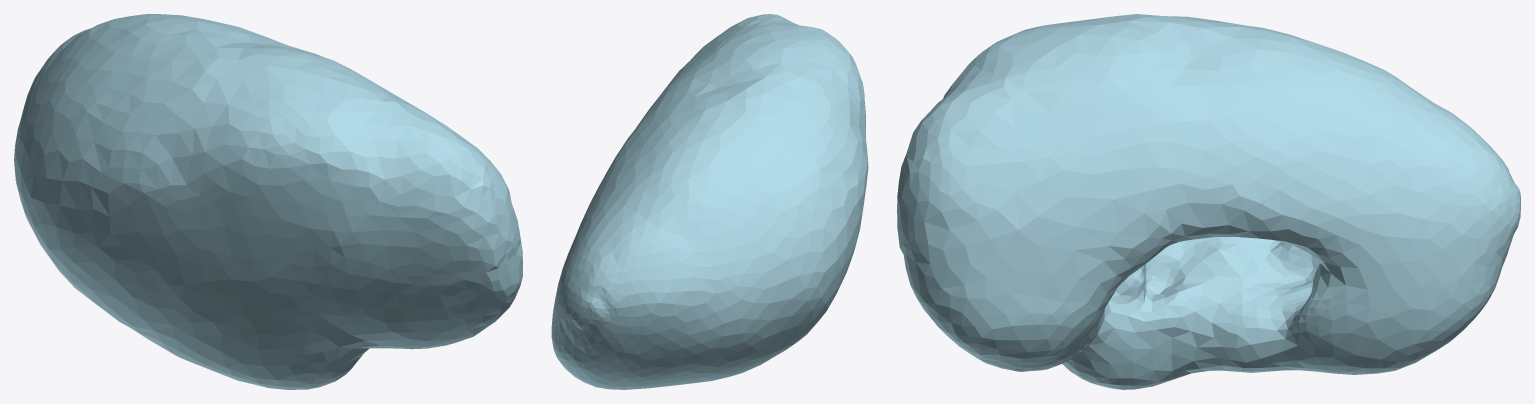
Rendered from rightkidney.obj.
3 renders of one model, left to right at view 1: azimuth 30°, elevation 25°; view 2: azimuth 150°, elevation 25°; view 3: azimuth 270°, elevation 25°, orthographic. The views are drawn at different scales.
Parts seen in each view (by area): view 1: grp1; view 2: grp1; view 3: grp1.
Boxes of the visible parts, x1,y1,x2,y2 form: grp1: [14, 14, 522, 389]; grp1: [551, 14, 868, 389]; grp1: [897, 14, 1520, 389].
Bounding box in the file's own units: 62.1 × 60.26 × 101.
